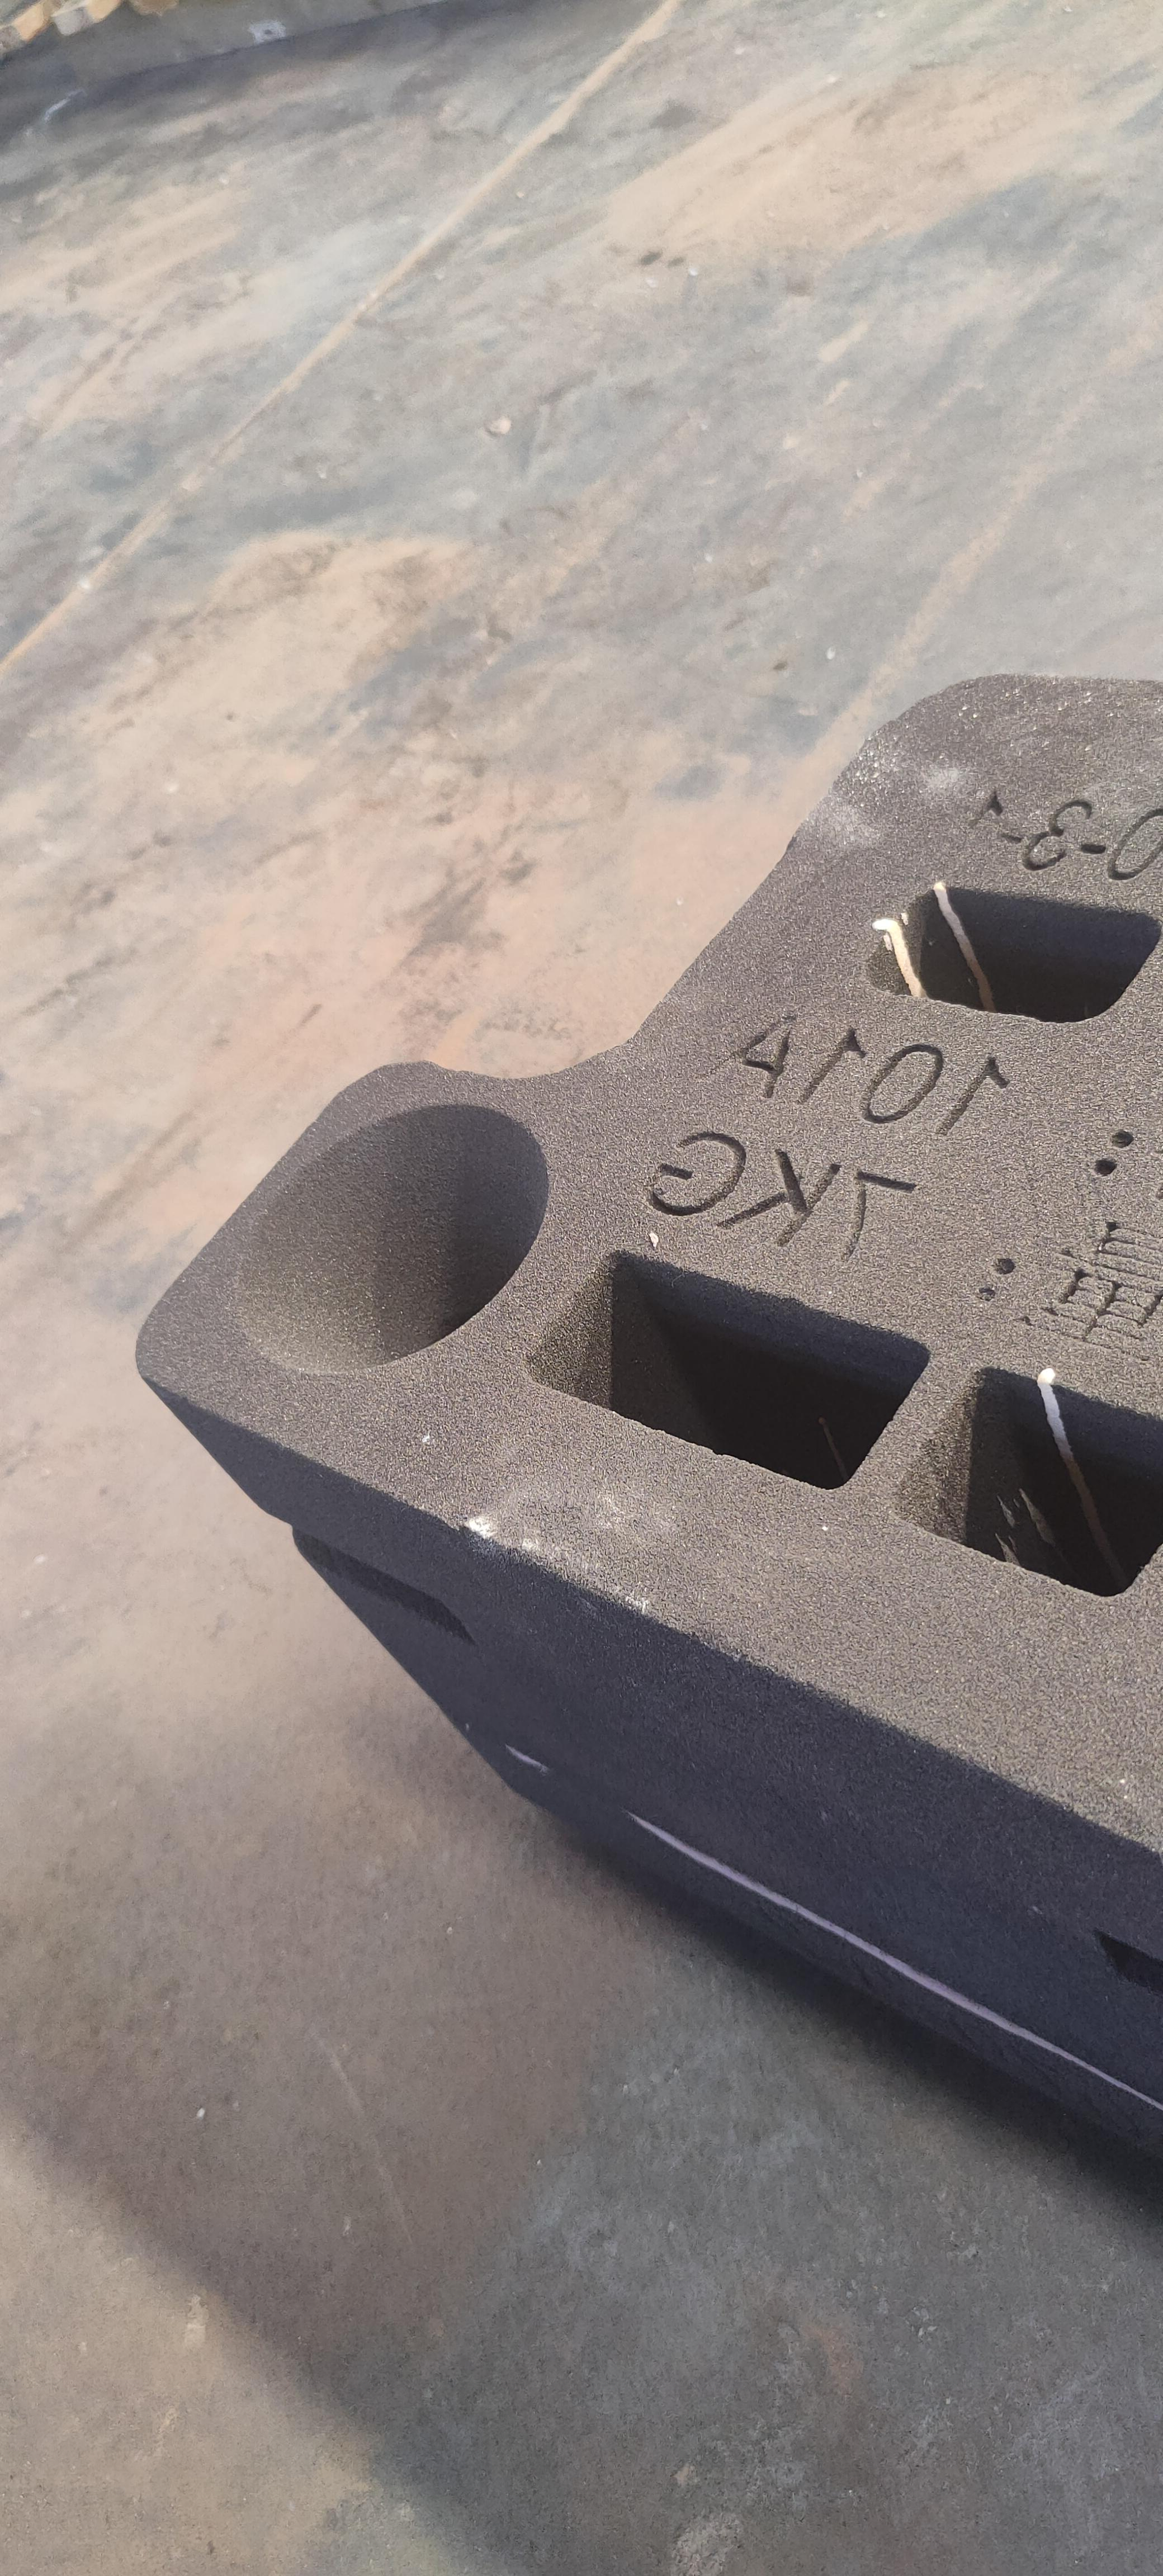pouring hole: (233, 1104, 550, 1373)
